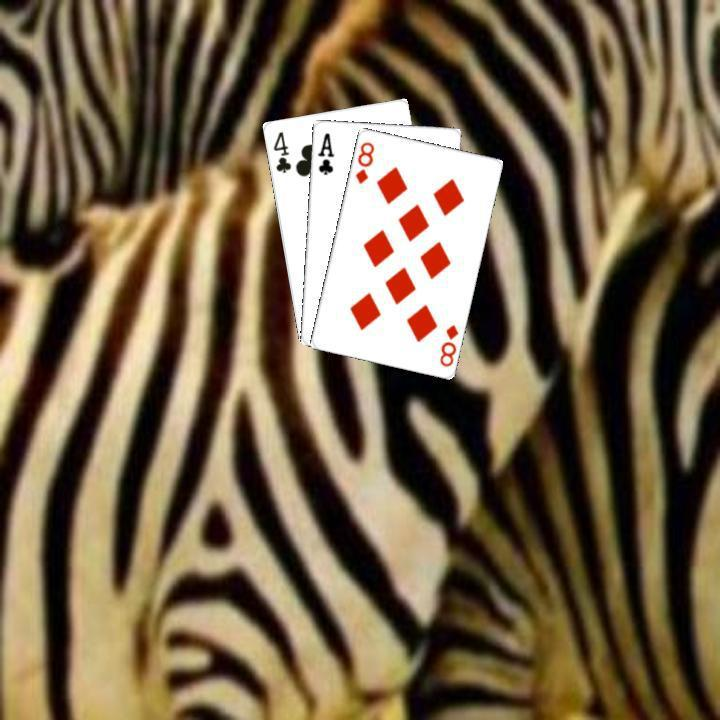4: (268, 127, 293, 175)
8: (351, 137, 376, 186), (435, 320, 460, 368)
A: (313, 128, 335, 176)
